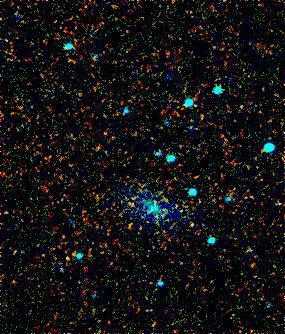star: (175, 209, 205, 239)
